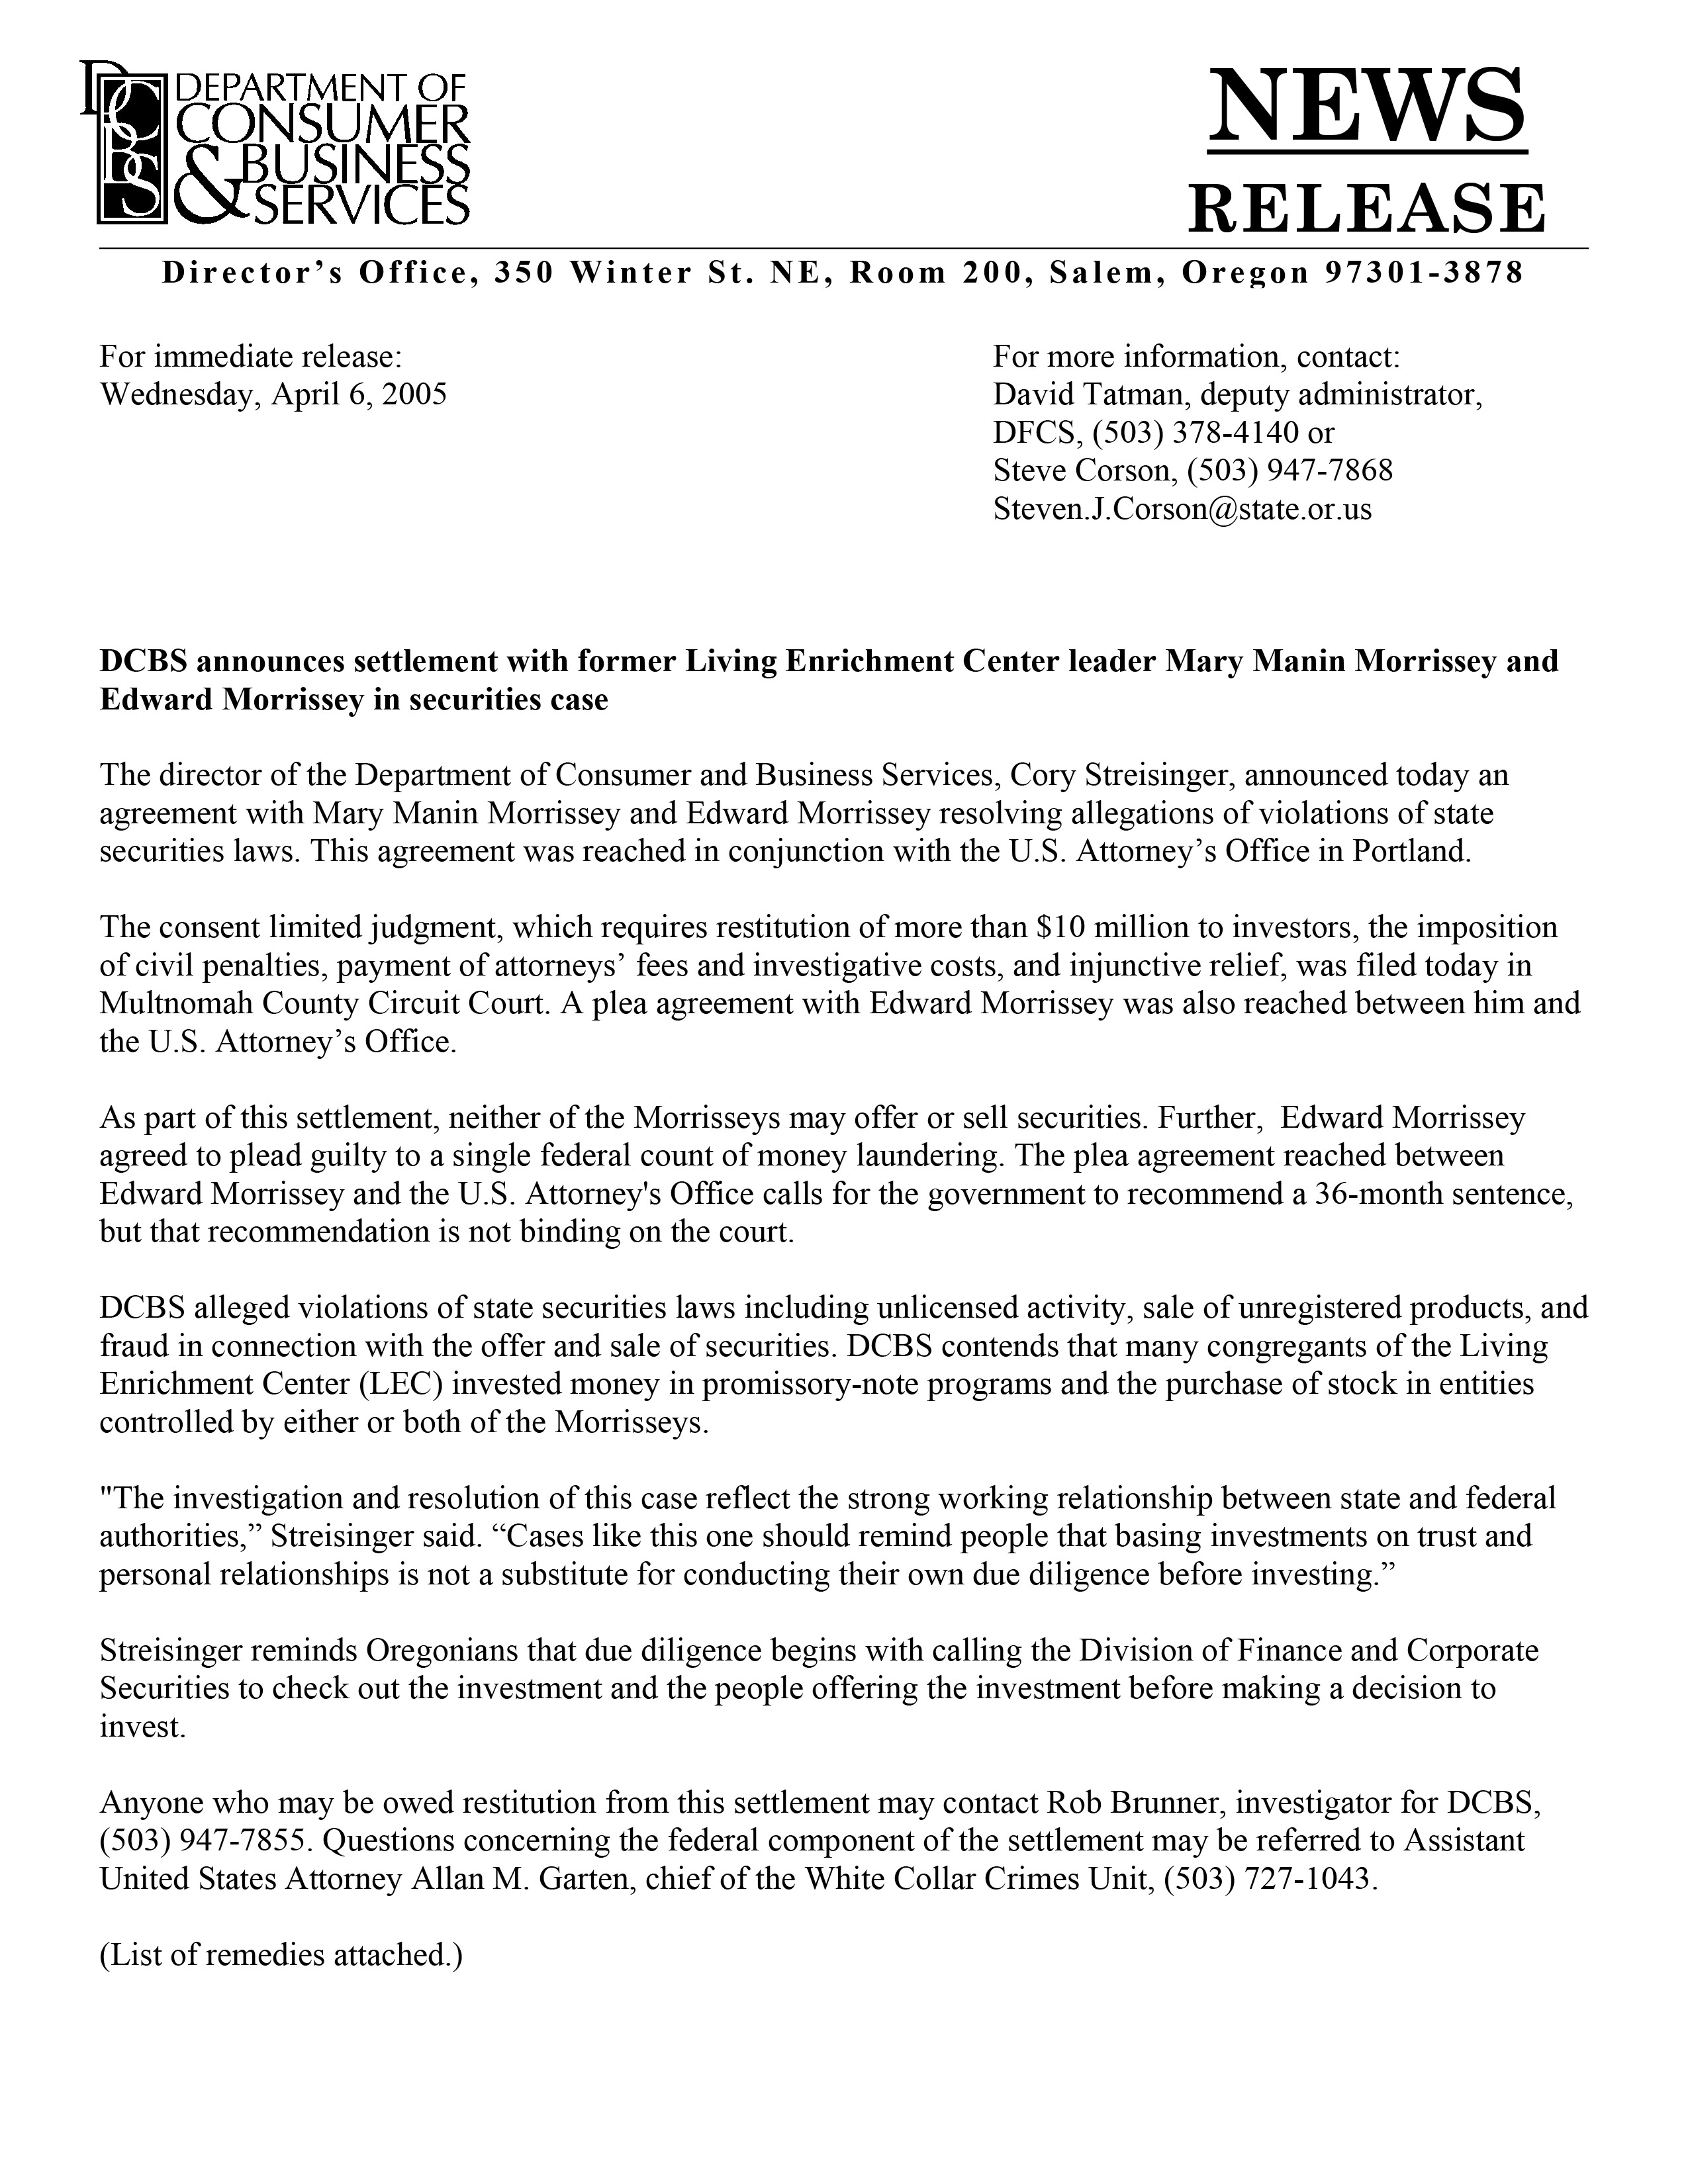section: (1153, 39, 1562, 246)
text: (94, 918, 1582, 1080), (80, 1282, 1596, 1434), (103, 1103, 1562, 1252), (87, 1486, 1582, 1615), (87, 1638, 1548, 1767), (98, 755, 1521, 886), (90, 1790, 1562, 1911), (98, 633, 1539, 723), (975, 316, 1495, 530), (73, 50, 489, 232), (160, 250, 1532, 300), (76, 337, 463, 433)
